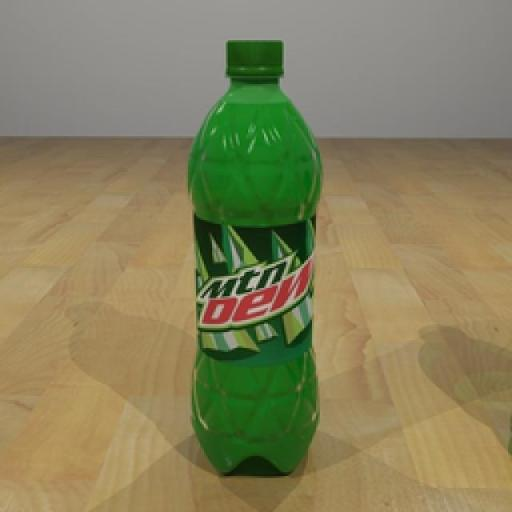plastic: (186, 38, 322, 476)
